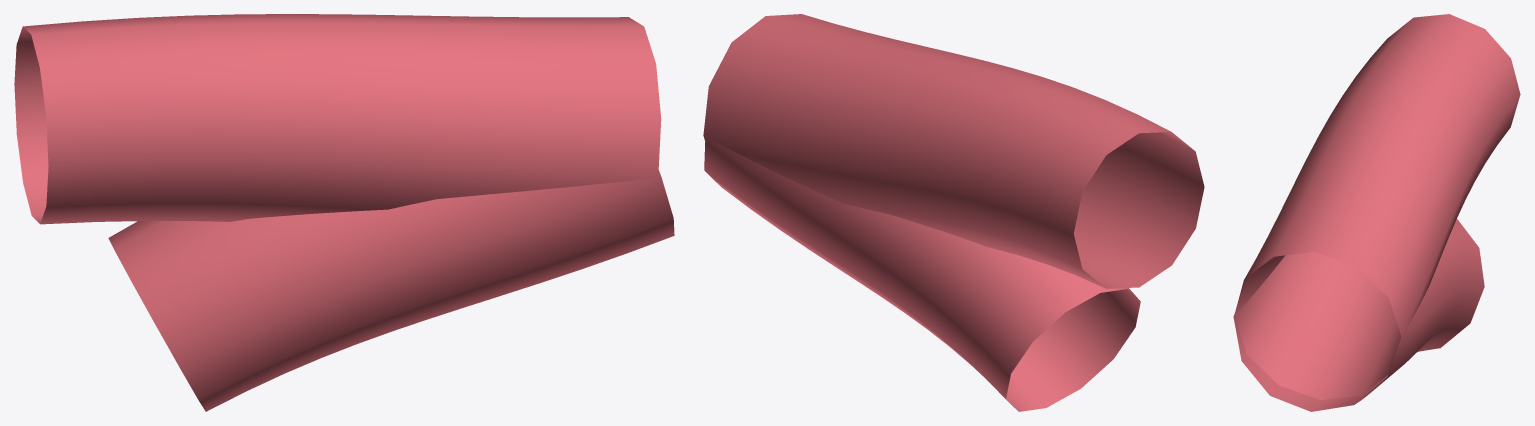
The picture shows the model from 3 angles, left to right: view 1: azimuth 30°, elevation 25°; view 2: azimuth 150°, elevation 25°; view 3: azimuth 270°, elevation 25°; orthographic projection. The views are drawn at different scales.
Parts seen in each view (by area): view 1: ZA_6b0a1e00deeb01c7; view 2: ZA_6b0a1e00deeb01c7; view 3: ZA_6b0a1e00deeb01c7.
Boxes of the visible parts, x1,y1,x2,y2 form: ZA_6b0a1e00deeb01c7: (14, 14, 674, 411); ZA_6b0a1e00deeb01c7: (703, 14, 1204, 411); ZA_6b0a1e00deeb01c7: (1233, 14, 1520, 411).
Bounding box in the file's own units: 0.0235 × 0.0146 × 0.0132.
